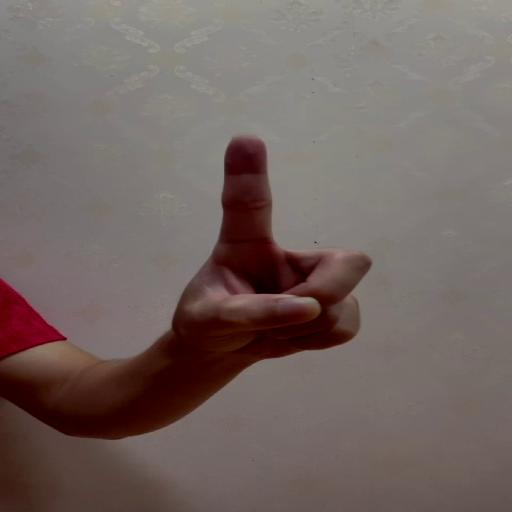point: (199, 132, 377, 358)
